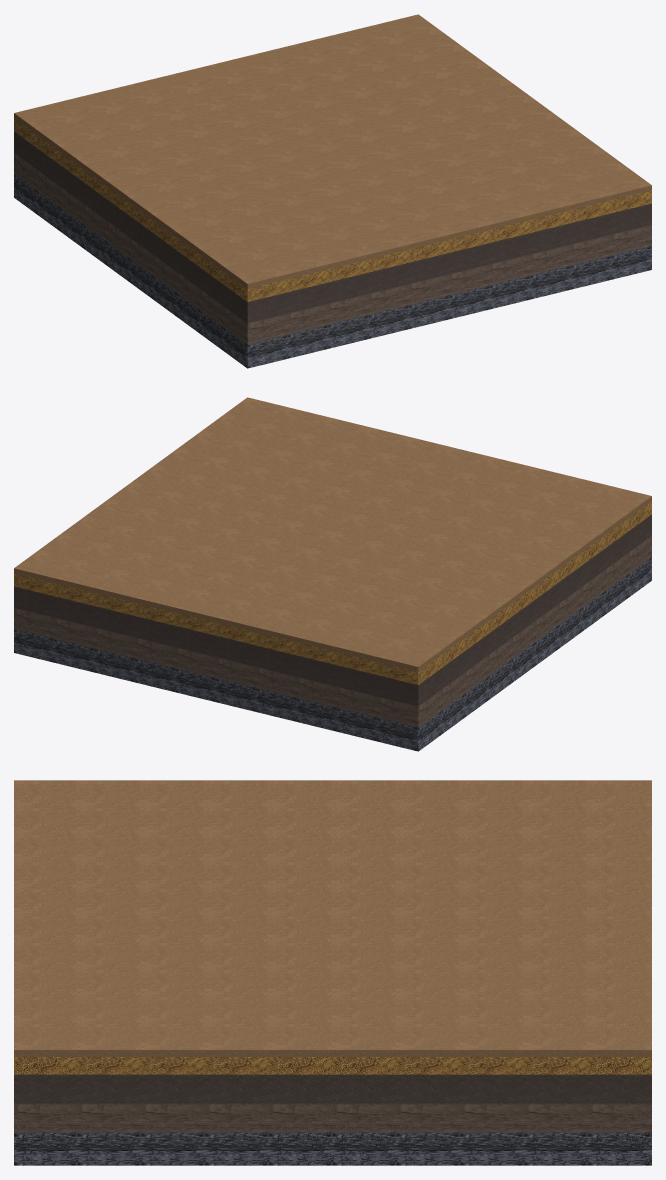
The model's file is tuti100x100.fbx.
3 views of the same model, one above another, from view 1: azimuth 30°, elevation 25°; view 2: azimuth 150°, elevation 25°; view 3: azimuth 270°, elevation 25° (orthographic). The views are drawn at different scales.
Parts seen in each view (by area): view 1: tuti100x100; view 2: tuti100x100; view 3: tuti100x100.
Part boxes in pixels (x1,y1,x2,y2): tuti100x100: [14, 14, 651, 368]; tuti100x100: [14, 397, 651, 751]; tuti100x100: [14, 780, 651, 1165].
Bounding box in the file's own units: 100 × 20 × 100.
